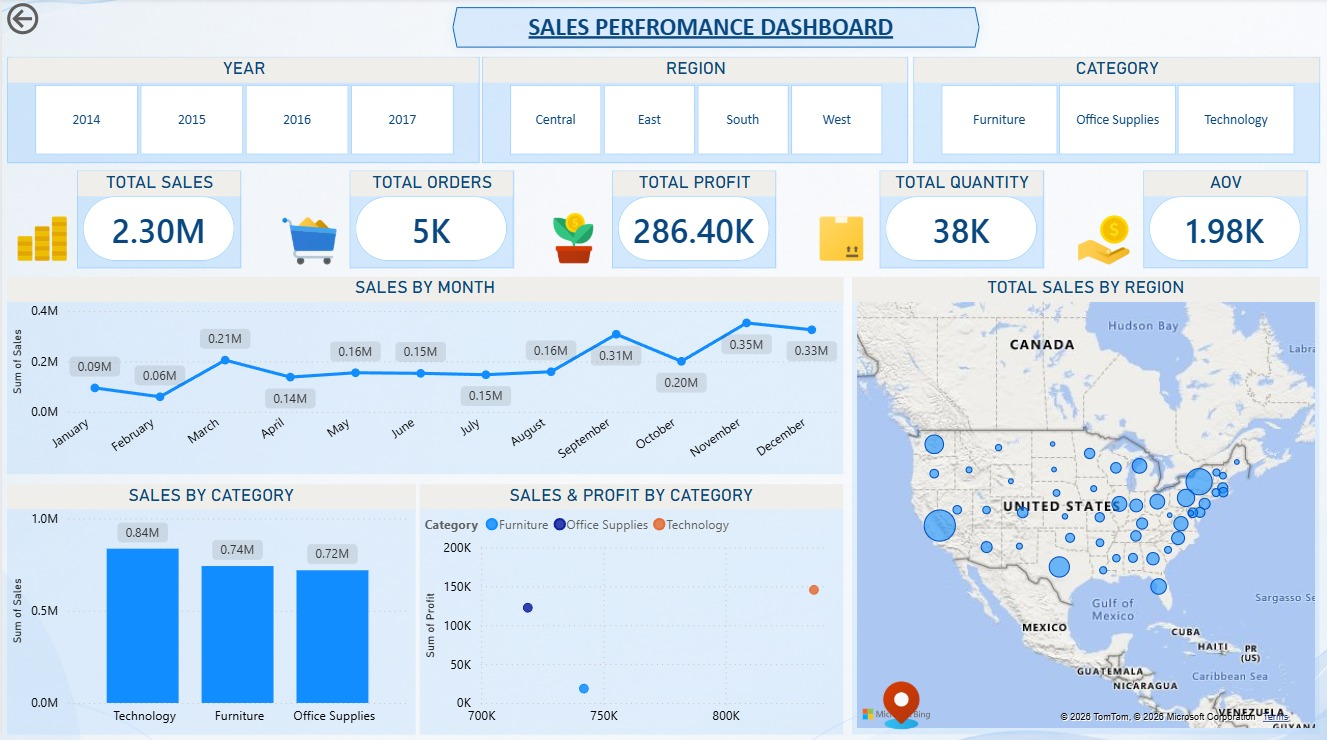

Layout of this report page (visuals, bound fields, positions):
{"tool":"powerbi","page":{"name":"Executive Sales Dashboard","canvas":[1280,720],"ordinal":0},"visuals":[{"type":"cardVisual","title":"TOTAL SALES","fields":{"Data":["Sum(Cleaned_Superstore.Sales)"]},"box":[74.8,147.2,158,68.8],"z":0},{"type":"cardVisual","title":"TOTAL PROFIT","fields":{"Data":["Sum(Cleaned_Superstore.Profit)"]},"box":[591.2,147.2,158,66.4],"z":1000},{"type":"cardVisual","title":"TOTAL ORDERS","fields":{"Data":["Count(Cleaned_Superstore.Order ID)"]},"box":[337.8,147.2,158,66.4],"z":2000},{"type":"cardVisual","title":"TOTAL QUANTITY","fields":{"Data":["Sum(Cleaned_Superstore.Quantity)"]},"box":[849.3,147.2,158,67.6],"z":3000},{"type":"cardVisual","title":"AOV","fields":{"Data":["Cleaned_Superstore.AOV"]},"box":[1103.9,147.2,158,68.8],"z":4000},{"type":"lineChart","title":"SALES BY MONTH","fields":{"Y":["Sum(Cleaned_Superstore.Sales)"],"Category":["Cleaned_Superstore.Order Date Hierarchy.Month"]},"box":[4.8,216,803.5,247.3],"z":5000},{"type":"actionButton","box":[0,0,100,40],"z":6000},{"type":"slicer","title":"YEAR","fields":{"Values":["Cleaned_Superstore.Order Date.Variation.Date Hierarchy.Year"]},"box":[4.8,56.7,456,88.1],"z":7000},{"type":"columnChart","title":"SALES BY CATEGORY","fields":{"Category":["Cleaned_Superstore.Category"],"Y":["Sum(Cleaned_Superstore.Sales)"]},"box":[4.8,468.1,393.3,242.5],"z":8000},{"type":"scatterChart","title":"SALES & PROFIT BY CATEGORY","fields":{"Y":["Sum(Cleaned_Superstore.Profit)"],"Series":["Cleaned_Superstore.Category"],"X":["Sum(Cleaned_Superstore.Sales)"]},"box":[406.6,468.1,401.7,242.5],"z":9000},{"type":"slicer","title":"REGION","fields":{"Values":["Cleaned_Superstore.Country Hierarchy.Region"]},"box":[463.3,56.7,411.4,88.1],"z":10000},{"type":"slicer","title":"CATEGORY","fields":{"Values":["Cleaned_Superstore.Category"]},"box":[879.5,56.7,392.1,88.1],"z":11000},{"type":"shape","box":[261.8,6,839.7,45.8],"z":12000},{"type":"image","box":[15.7,170.1,59.1,45.8],"z":13000},{"type":"image","box":[261.8,170.1,76,44.6],"z":14000},{"type":"image","box":[523.6,170.1,67.6,43.4],"z":15000},{"type":"image","box":[783,170.1,66.4,43.4],"z":16000},{"type":"image","box":[1035.1,170.1,68.8,45.8],"z":17000},{"type":"map","fields":{"Category":["Cleaned_Superstore.Country Hierarchy.State","Cleaned_Superstore.Country Hierarchy.City"],"Size":["Sum(Cleaned_Superstore.Sales)"]},"box":[816.8,216,463.3,504.3],"z":18000}]}

Visuals, with their boxes in screenshot pixels (x1, y1, x2, y2), scaled from the page's 1280x720 canvas onto the 1327x740 screenshot:
"TOTAL SALES" cardVisual: (left=78, top=151, right=241, bottom=222)
"TOTAL PROFIT" cardVisual: (left=613, top=151, right=777, bottom=220)
"TOTAL ORDERS" cardVisual: (left=350, top=151, right=514, bottom=220)
"TOTAL QUANTITY" cardVisual: (left=880, top=151, right=1044, bottom=221)
"AOV" cardVisual: (left=1144, top=151, right=1308, bottom=222)
"SALES BY MONTH" lineChart: (left=5, top=222, right=838, bottom=476)
actionButton: (left=0, top=0, right=104, bottom=41)
"YEAR" slicer: (left=5, top=58, right=478, bottom=149)
"SALES BY CATEGORY" columnChart: (left=5, top=481, right=413, bottom=730)
"SALES & PROFIT BY CATEGORY" scatterChart: (left=422, top=481, right=838, bottom=730)
"REGION" slicer: (left=480, top=58, right=907, bottom=149)
"CATEGORY" slicer: (left=912, top=58, right=1318, bottom=149)
shape: (left=271, top=6, right=1142, bottom=53)
image: (left=16, top=175, right=78, bottom=222)
image: (left=271, top=175, right=350, bottom=221)
image: (left=543, top=175, right=613, bottom=219)
image: (left=812, top=175, right=881, bottom=219)
image: (left=1073, top=175, right=1144, bottom=222)
map - Cleaned_Superstore.Country Hierarchy.State x Cleaned_Superstore.Country Hierarchy.City: (left=847, top=222, right=1326, bottom=739)
